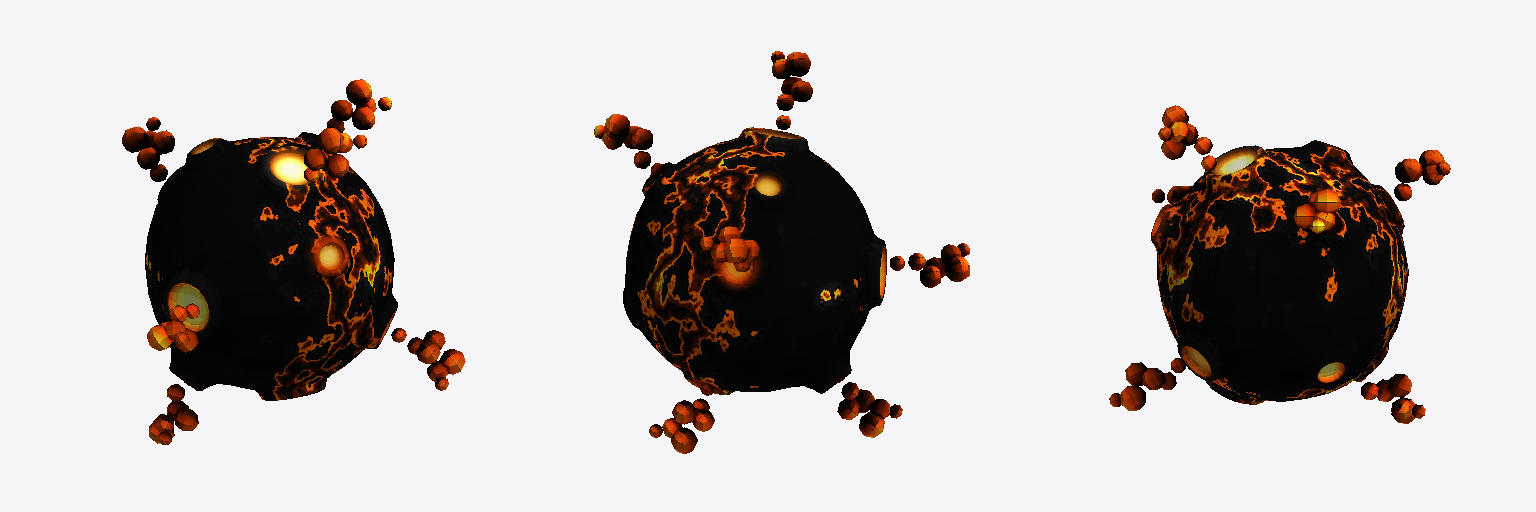
3 renders of one model, left to right at view 1: azimuth 30°, elevation 25°; view 2: azimuth 150°, elevation 25°; view 3: azimuth 270°, elevation 25°, orthographic.
Visible parts, largest first — view 1: FirePlanet; view 2: FirePlanet; view 3: FirePlanet.
Part boxes in pixels (x1,y1,x2,y2): FirePlanet: (122,79,465,444); FirePlanet: (594,51,969,453); FirePlanet: (1109,105,1450,423).
Size of the model in its own units: 190 by 188 by 182.
Materials: 1 (1 with a texture image).